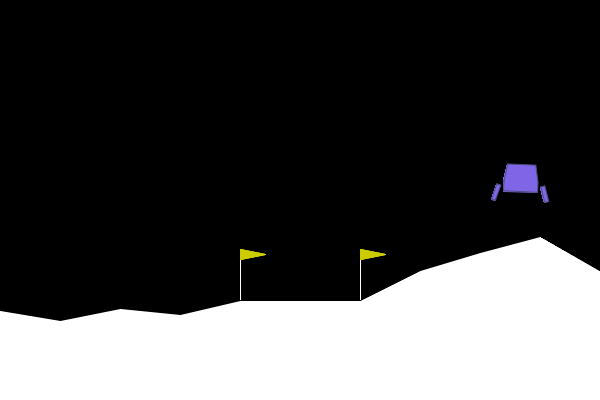lander: (490, 162, 551, 204)
